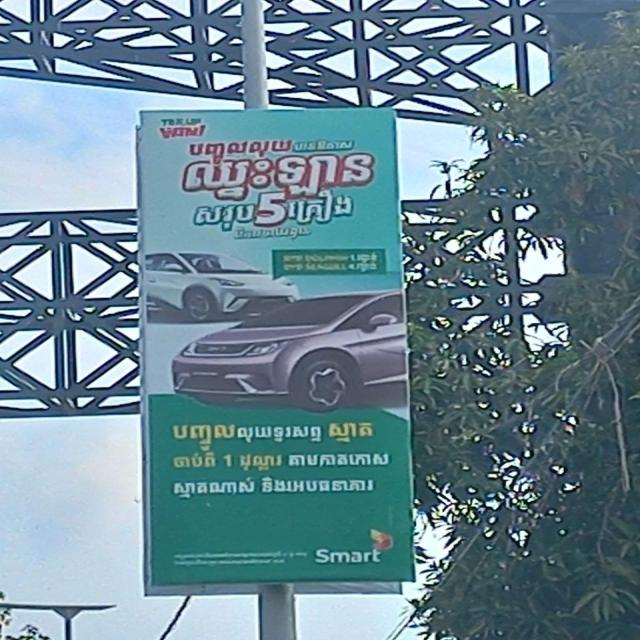Yolov11kh: (177, 153, 377, 200), (189, 189, 353, 231), (171, 420, 387, 450), (167, 450, 393, 474), (171, 478, 375, 500), (185, 135, 296, 166)
